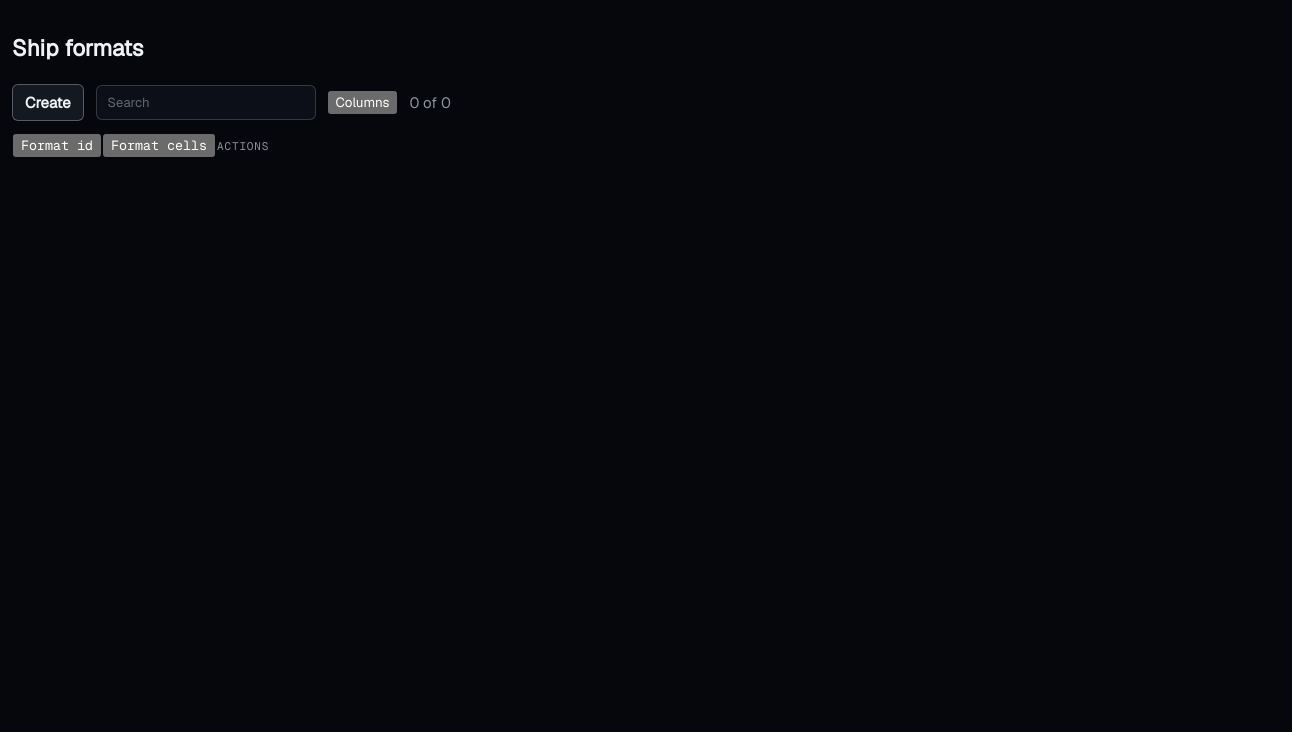
Test: EntityScreen › lays a ship format form out as a details column beside the centered drawing area
Click the link "Create": (48, 103) x1=12 y1=84 x2=84 y2=122
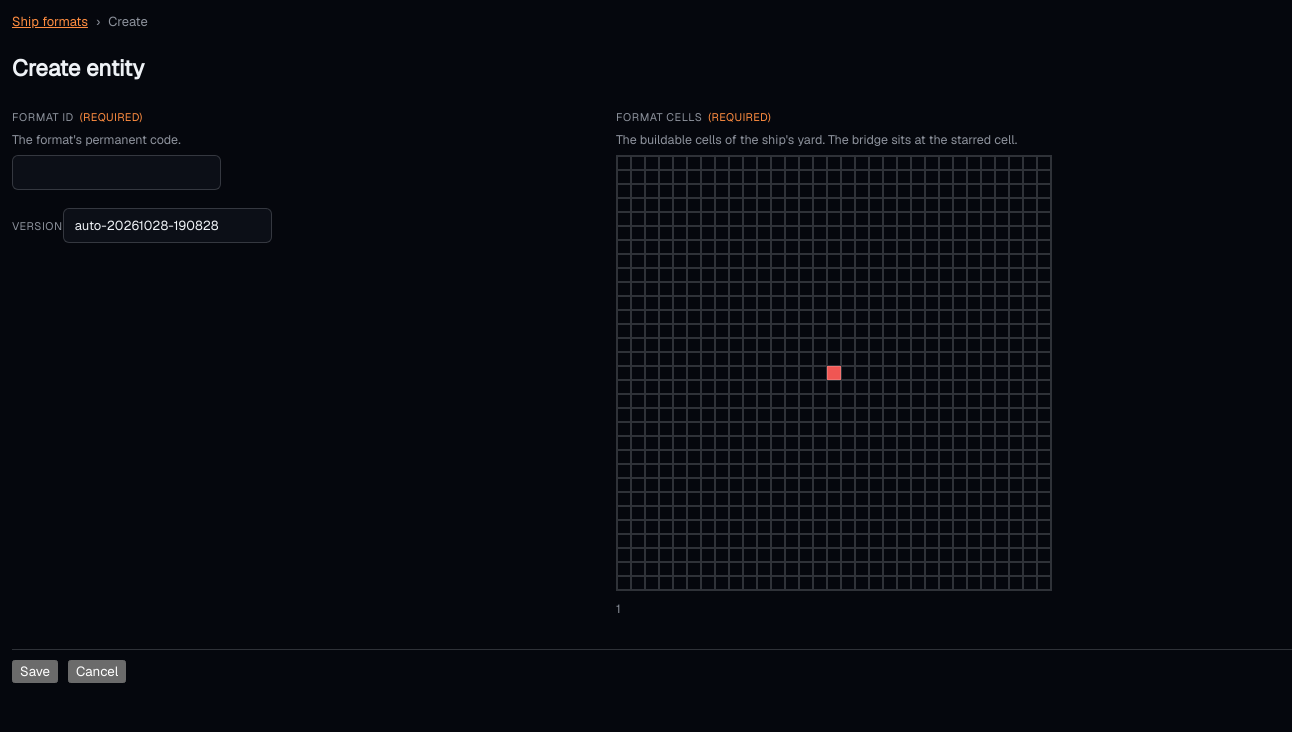
Expected: the element showing "Format id(required) The format's permanent code. Version" is shown, x1=12 y1=110 x2=272 y2=243
Expected: the element that starts with "Format cells" is shown, x1=616 y1=110 x2=1052 y2=617
Expected: the field labelled "Format id(required)" is shown, x1=12 y1=155 x2=221 y2=190
